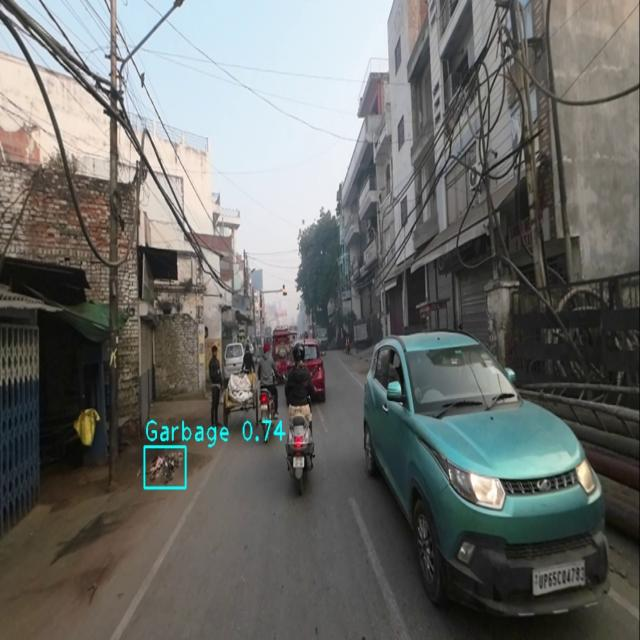Garbage: (182, 394, 184, 396)
